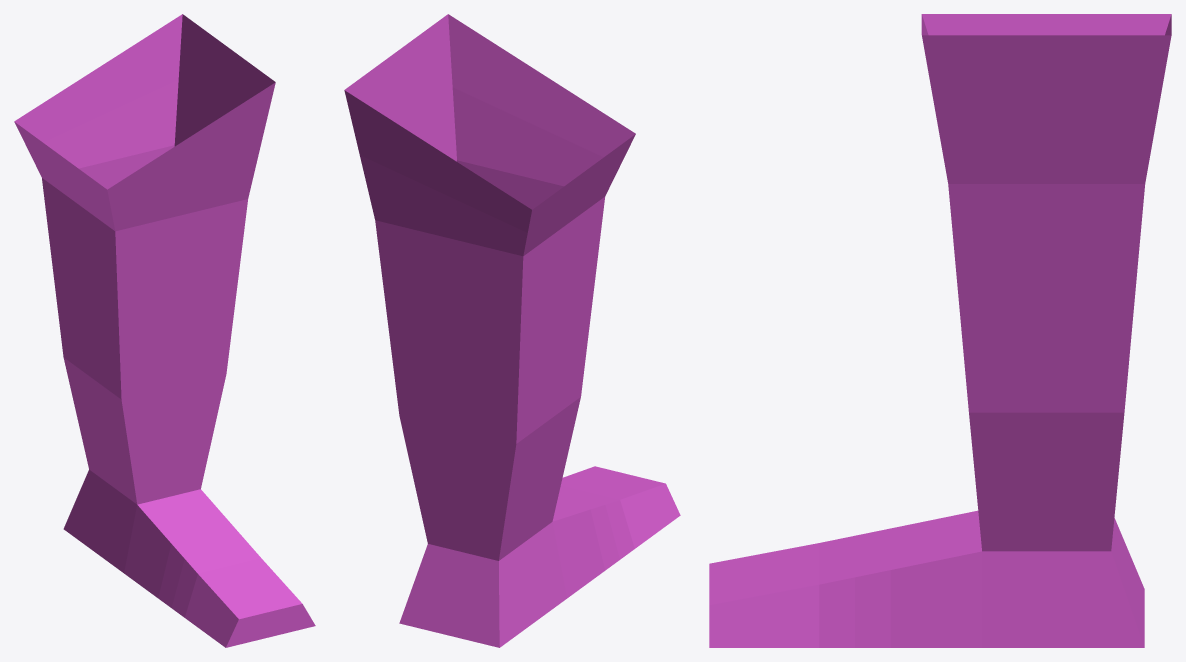
Rendered from leg.fbx.
3 renders of one model, left to right at view 1: azimuth 30°, elevation 25°; view 2: azimuth 150°, elevation 25°; view 3: azimuth 270°, elevation 25°, orthographic. The views are drawn at different scales.
Parts seen in each view (by area): view 1: Cube.001; view 2: Cube.001; view 3: Cube.001.
Boxes of the visible parts, left/top/right/bottom form: Cube.001: left=14, top=14, right=315, bottom=647; Cube.001: left=344, top=14, right=680, bottom=647; Cube.001: left=709, top=14, right=1171, bottom=647.
Size of the model in its own units: 27.17 by 73.38 by 48.15.
